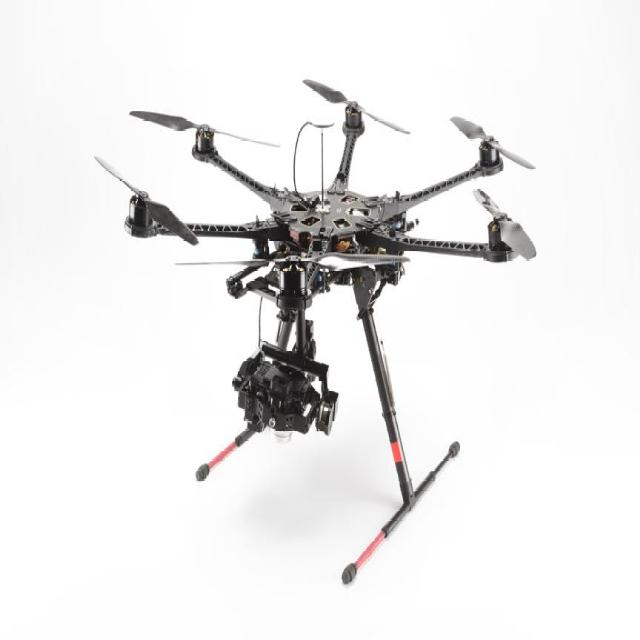drone: (85, 46, 560, 583)
